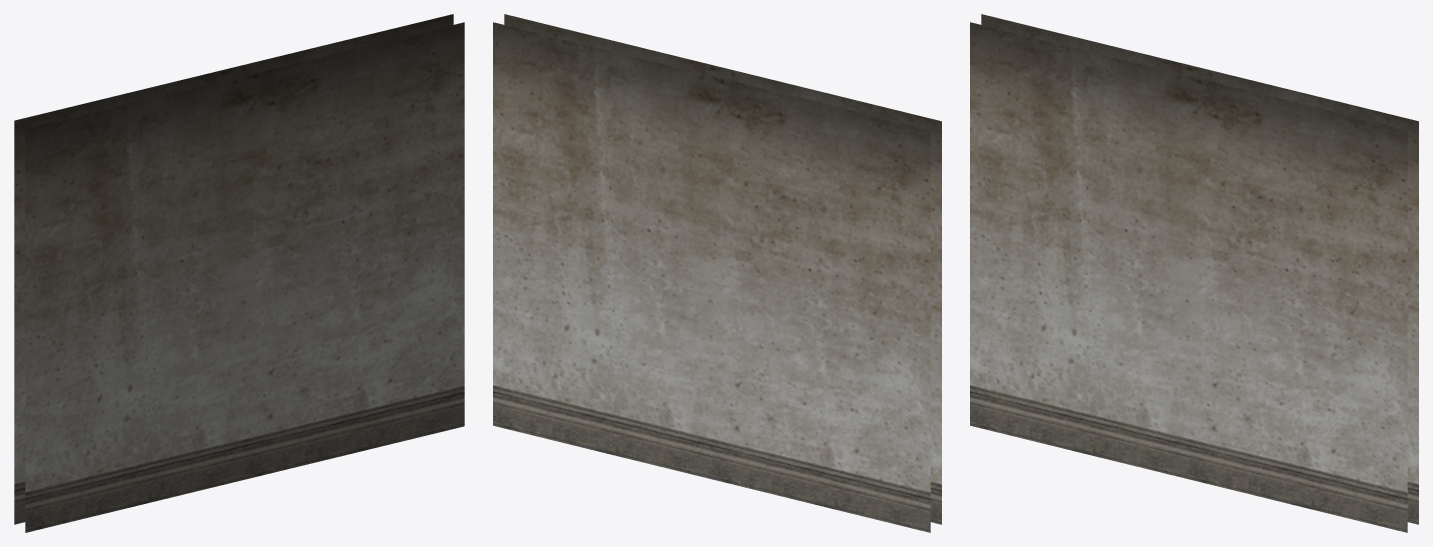
3 views of the same model, side by side, from view 1: azimuth 30°, elevation 25°; view 2: azimuth 150°, elevation 25°; view 3: azimuth 330°, elevation 25° (orthographic).
Parts seen in each view (by area): view 1: Box155; view 2: Box155; view 3: Box155.
Part boxes in pixels (box(x1,y1,x2,y2)): Box155: box(14, 14, 464, 532); Box155: box(493, 14, 941, 532); Box155: box(970, 14, 1418, 532).
Bounding box in the file's own units: 114 × 101 × 5.29.
